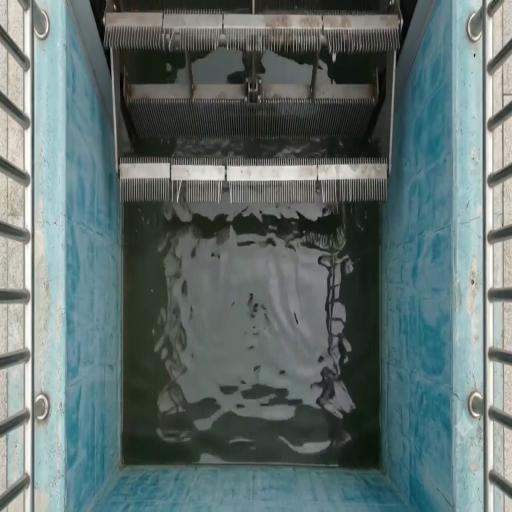rake_broken: (148, 15, 211, 66), (304, 20, 369, 62), (292, 169, 350, 216), (163, 168, 195, 211), (212, 168, 244, 211), (206, 18, 237, 59)
